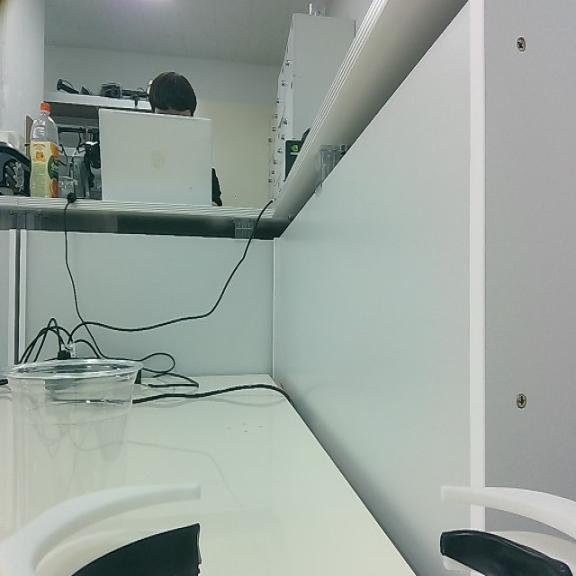Plastik: (8, 358, 140, 526)
